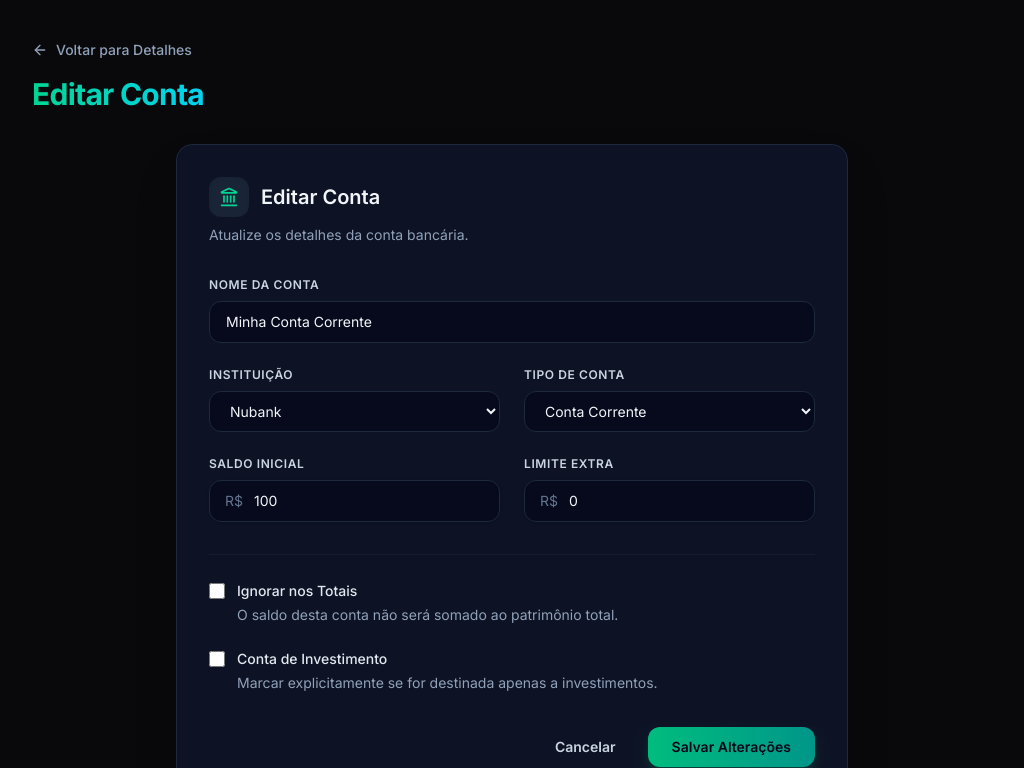
Test case: EditAccountPage Component › handles error during account update
The image size is (1024, 768).
expect the field showing "Minha Conta Corrente" is shown: met, box [209, 301, 815, 343]
Step 1. Click the checkbox with test id "ignoreInTotals" → point(217, 591), box [209, 583, 225, 599]
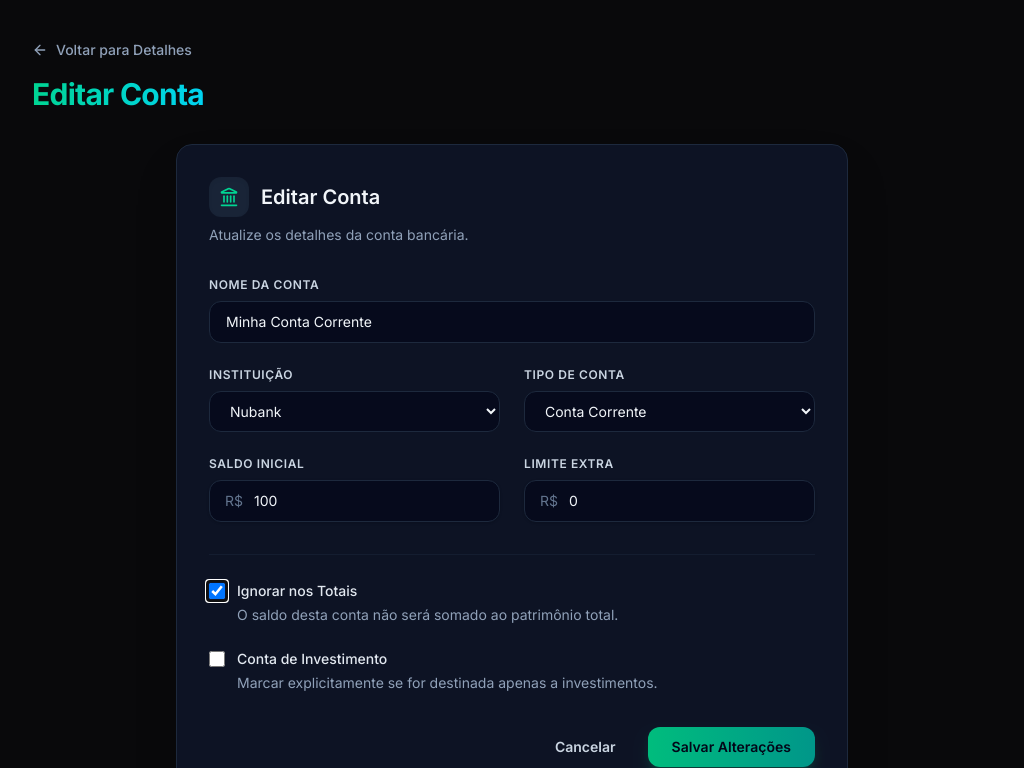
Step 2. Click the button with test id "btnSubmit" → point(731, 747), box [648, 727, 815, 767]
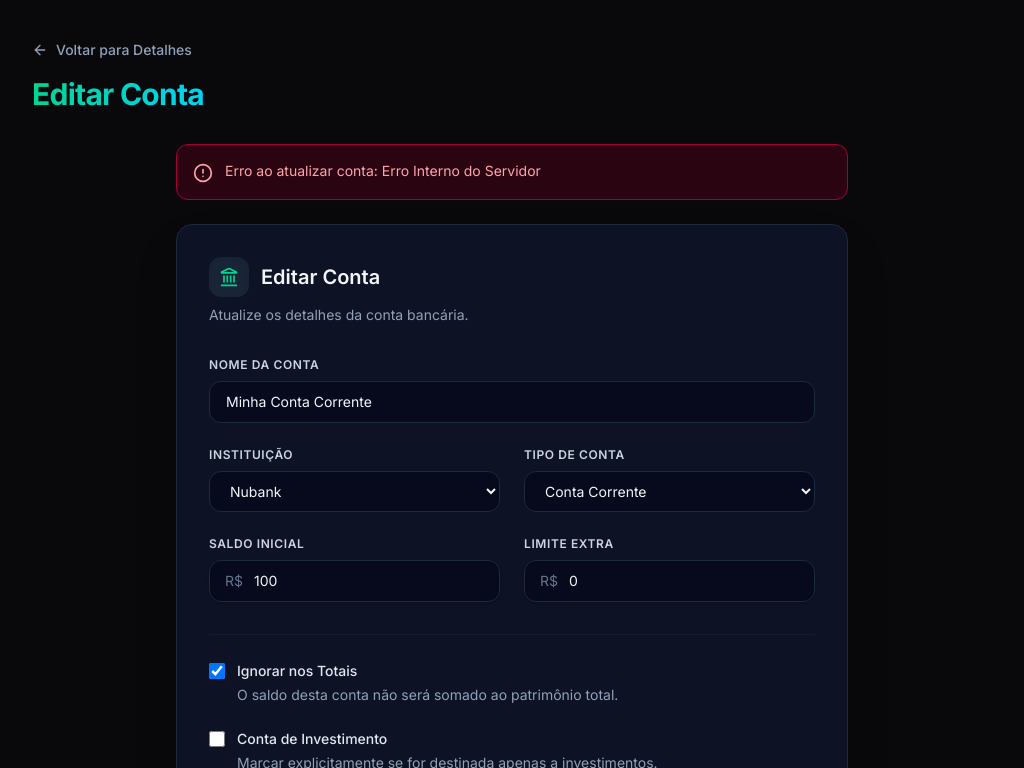
expect the text "Erro ao atualizar conta: Erro Interno do Servidor" is shown: met, box [225, 161, 541, 181]
